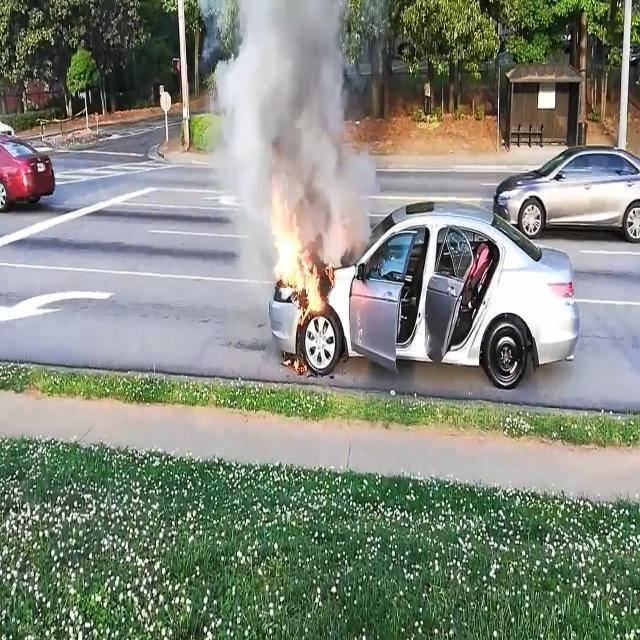fire: (262, 170, 339, 378)
